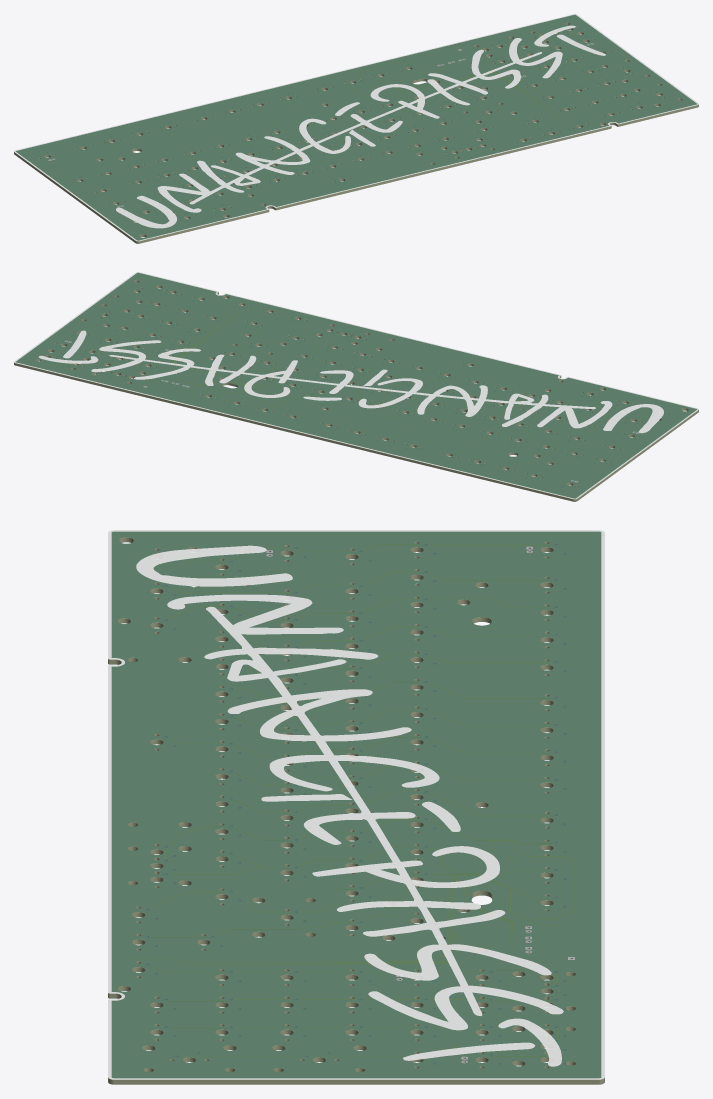
3 renders of one model, top to bottom at view 1: azimuth 30°, elevation 25°; view 2: azimuth 150°, elevation 25°; view 3: azimuth 270°, elevation 25°, orthographic. The views are drawn at different scales.
Parts seen in each view (by area): view 1: =>[0:1:1:25], =>[0:1:1:27], =>[0:1:1:23], =>[0:1:1:21]; view 2: =>[0:1:1:25], =>[0:1:1:27], =>[0:1:1:23], =>[0:1:1:21]; view 3: =>[0:1:1:25], =>[0:1:1:27], =>[0:1:1:23], =>[0:1:1:21].
Part boxes in pixels (x1,y1,x2,y2): =>[0:1:1:25]: (14, 14, 697, 240); =>[0:1:1:27]: (14, 15, 698, 243); =>[0:1:1:23]: (14, 14, 698, 241); =>[0:1:1:21]: (38, 28, 659, 226); =>[0:1:1:25]: (15, 272, 698, 498); =>[0:1:1:27]: (14, 273, 698, 501); =>[0:1:1:23]: (14, 272, 698, 499); =>[0:1:1:21]: (38, 290, 665, 487); =>[0:1:1:25]: (109, 531, 601, 1078); =>[0:1:1:27]: (108, 532, 604, 1084); =>[0:1:1:23]: (108, 530, 604, 1079); =>[0:1:1:21]: (144, 543, 574, 1064).
Size of the model in its own units: 0.381 by 0.00463 by 0.1455.
